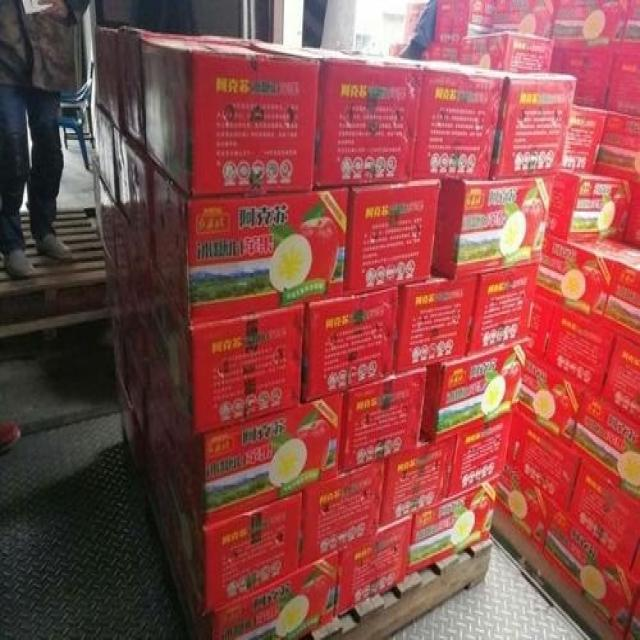box: (146, 396, 301, 618), (148, 353, 343, 527), (146, 466, 337, 640), (154, 164, 349, 324), (141, 36, 321, 195), (147, 263, 303, 437), (253, 41, 422, 188), (355, 53, 504, 183), (436, 61, 577, 181), (116, 26, 248, 147), (434, 177, 556, 278), (543, 510, 639, 637), (422, 338, 529, 442), (301, 287, 398, 401), (346, 181, 440, 295), (407, 474, 498, 577), (342, 367, 428, 474), (536, 236, 640, 324), (301, 459, 384, 568), (393, 271, 477, 372), (337, 512, 413, 618), (506, 408, 582, 514), (567, 459, 640, 568), (571, 389, 640, 503), (380, 432, 456, 527), (513, 350, 586, 447), (465, 265, 539, 357), (544, 304, 614, 396), (547, 169, 632, 242), (495, 461, 557, 553), (449, 415, 512, 495), (550, 41, 617, 109), (460, 31, 556, 72), (124, 137, 155, 259), (602, 247, 640, 345), (602, 335, 640, 425), (552, 0, 630, 43), (594, 111, 640, 183), (93, 27, 124, 133), (562, 106, 607, 172), (118, 377, 147, 476), (434, 0, 497, 43), (605, 43, 640, 118), (493, 0, 558, 39), (129, 227, 151, 338), (123, 353, 147, 440), (96, 176, 116, 271), (96, 106, 115, 200), (527, 295, 554, 360), (115, 126, 131, 224), (113, 203, 129, 297), (625, 585, 640, 638), (622, 0, 640, 43), (428, 43, 460, 61), (631, 544, 640, 580)
